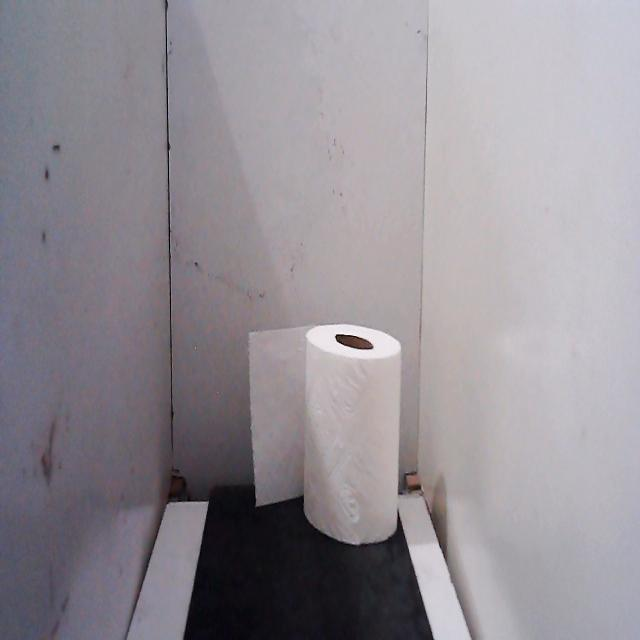papel: (242, 308, 410, 559)
